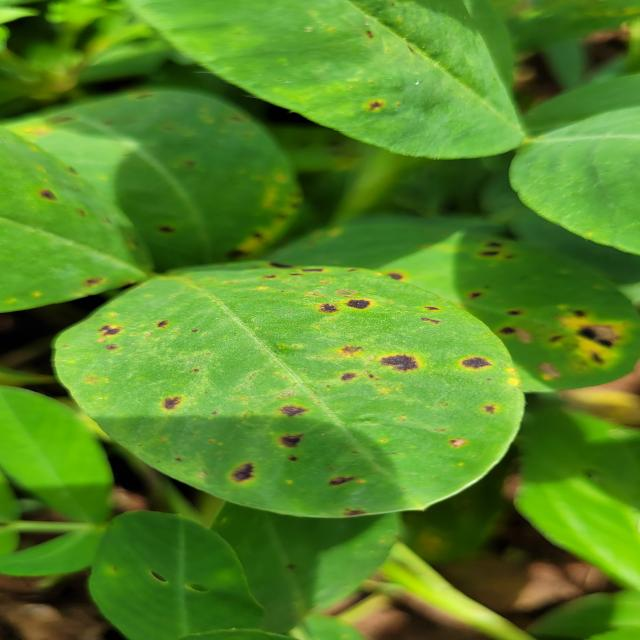Ground nut_tikka leaf spot: (57, 256, 531, 519)
